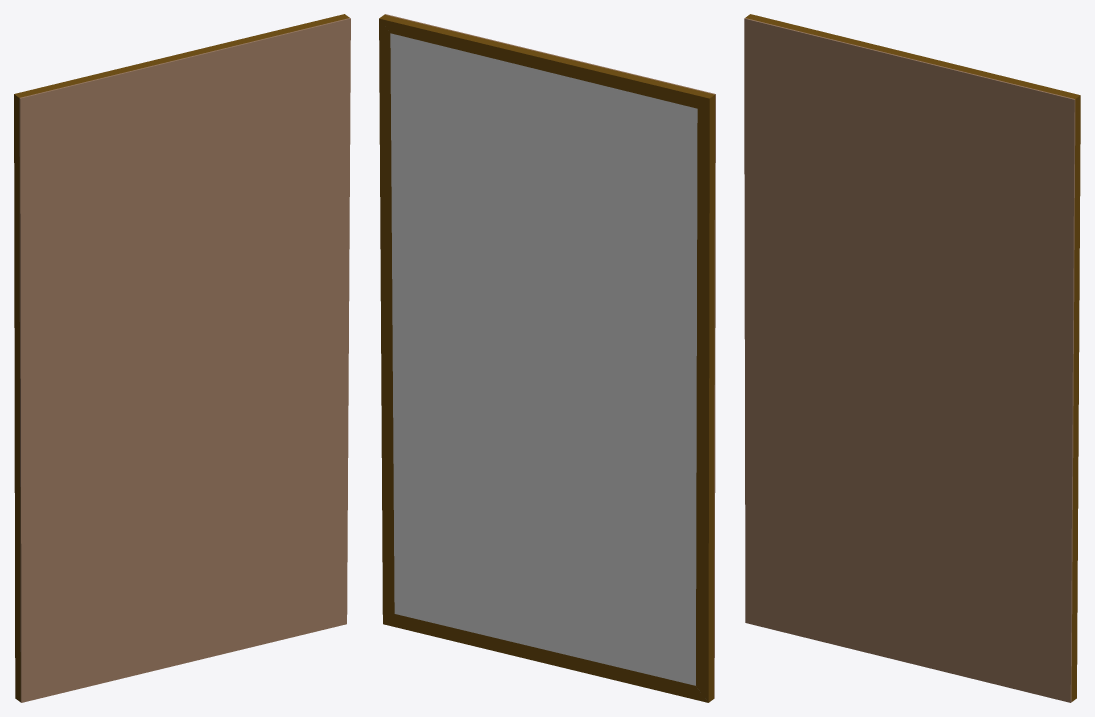
Rendered from galton2_v2.fbx.
3 renders of one model, left to right at view 1: azimuth 30°, elevation 25°; view 2: azimuth 150°, elevation 25°; view 3: azimuth 330°, elevation 25°, orthographic.
Visible parts, largest first — view 1: back, frameRight, frameUp; view 2: window, frameRight, frameLeft, frameUp, frameDown, back; view 3: back, frameLeft, frameUp.
Part boxes in pixels (<box>): back: <box>19,18,350,702</box>; frameRight: <box>14,94,20,701</box>; frameUp: <box>14,14,349,97</box>; window: <box>390,33,697,685</box>; frameRight: <box>696,95,714,702</box>; frameLeft: <box>379,19,394,623</box>; frameUp: <box>379,14,714,108</box>; frameDown: <box>383,614,707,702</box>; back: <box>385,14,715,698</box>; back: <box>744,18,1075,702</box>; frameLeft: <box>1071,95,1080,701</box>; frameUp: <box>745,14,1080,98</box>.
Bounding box in the file's own units: 212 × 370 × 6.92.
